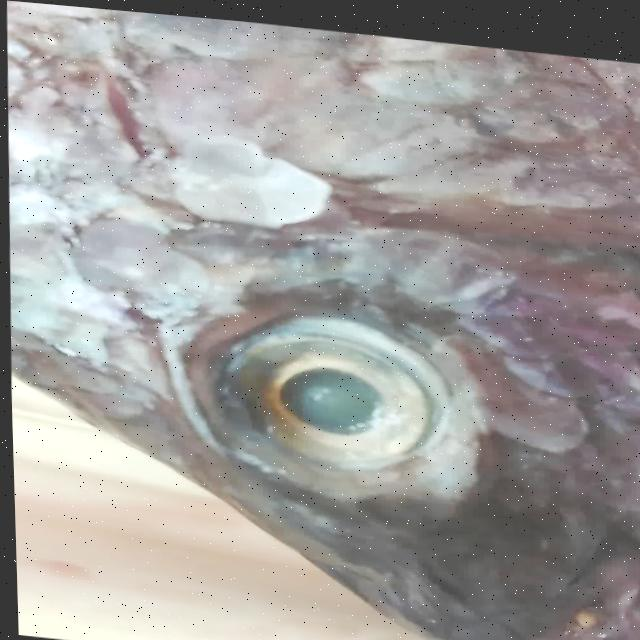Non-Fresh: (1, 0, 639, 327), (178, 298, 451, 486)
